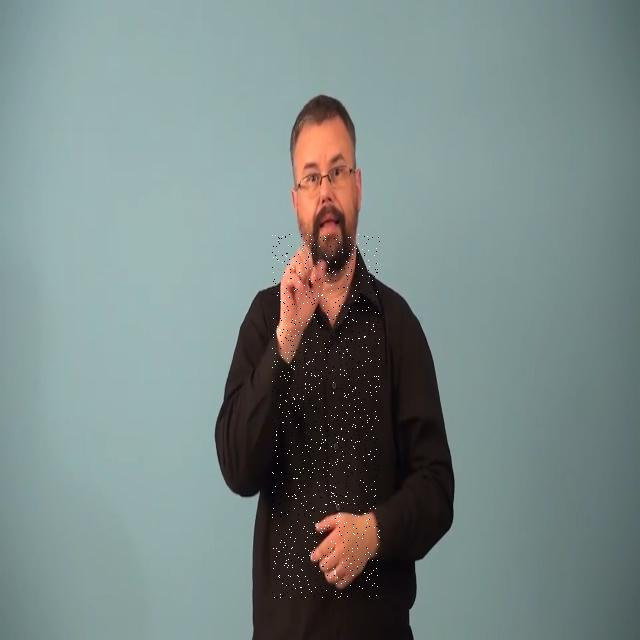cash: (272, 234, 380, 598)
